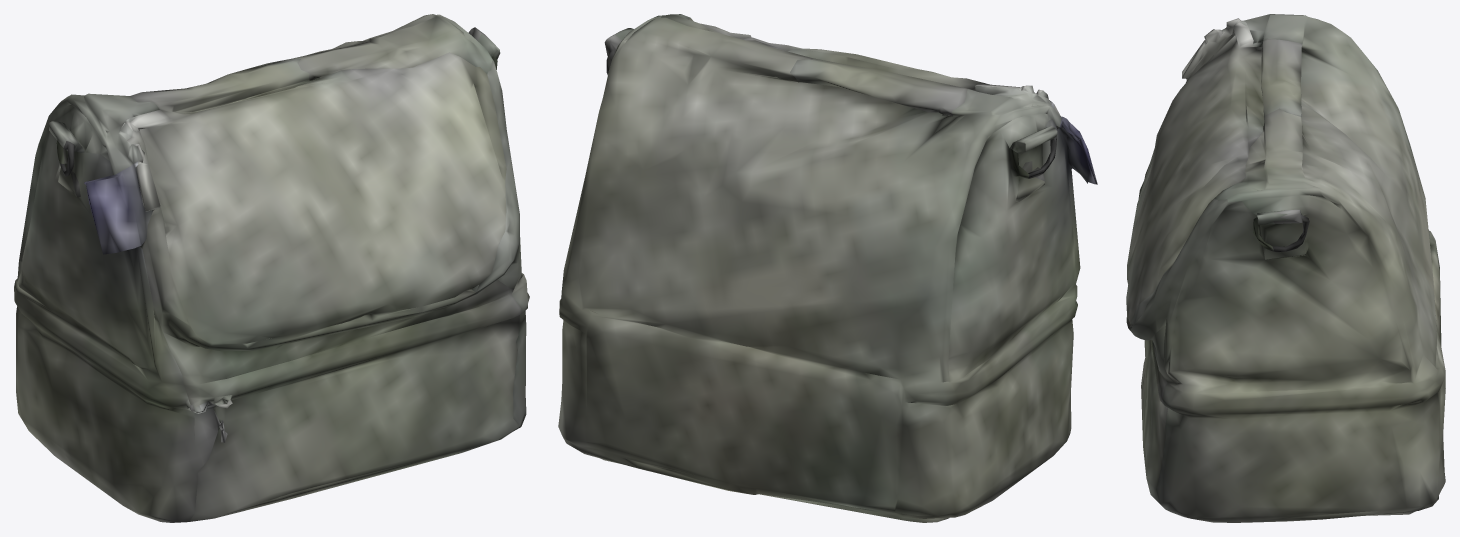
The model's file is Digital_Camo_Double_Decker_Lunch_Bag-medium.glb.
3 views of the same model, side by side, from view 1: azimuth 30°, elevation 25°; view 2: azimuth 150°, elevation 25°; view 3: azimuth 270°, elevation 25° (orthographic). The views are drawn at different scales.
Parts seen in each view (by area): view 1: Digital_Camo_Double_Decker_Lunch_Bag; view 2: Digital_Camo_Double_Decker_Lunch_Bag; view 3: Digital_Camo_Double_Decker_Lunch_Bag.
Part boxes in pixels (x1=…): Digital_Camo_Double_Decker_Lunch_Bag: x1=14, y1=14, x2=529, y2=522; Digital_Camo_Double_Decker_Lunch_Bag: x1=558, y1=14, x2=1097, y2=522; Digital_Camo_Double_Decker_Lunch_Bag: x1=1126, y1=14, x2=1445, y2=522.
Size of the model in its own units: 0.2603 by 0.2178 by 0.1812.
1 material, 1 textured.
